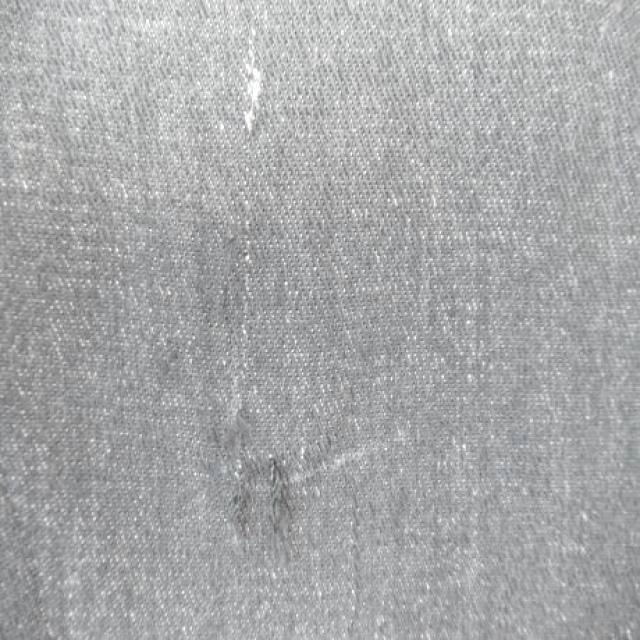stains: (78, 8, 436, 640)
